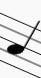note: (6, 10, 40, 77)
